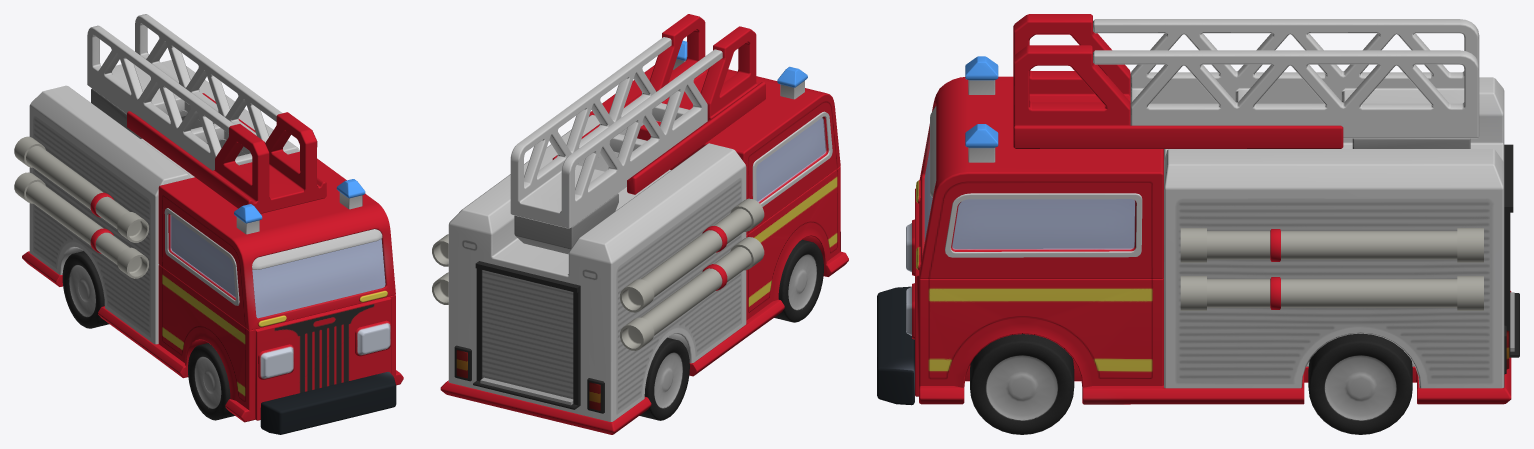
File: fire-truck.glb
3 renders of one model, left to right at view 1: azimuth 30°, elevation 25°; view 2: azimuth 150°, elevation 25°; view 3: azimuth 270°, elevation 25°, orthographic. The views are drawn at different scales.
Parts seen in each view (by area): view 1: icon_firetruck_base_stylized_lod0; view 2: icon_firetruck_base_stylized_lod0; view 3: icon_firetruck_base_stylized_lod0.
Boxes of the visible parts, <box> form: icon_firetruck_base_stylized_lod0: <box>14,14,403,434</box>; icon_firetruck_base_stylized_lod0: <box>432,14,848,434</box>; icon_firetruck_base_stylized_lod0: <box>877,14,1519,434</box>.
Size of the model in its own units: 0.14 by 0.1772 by 0.293.
1 material, 1 textured.
